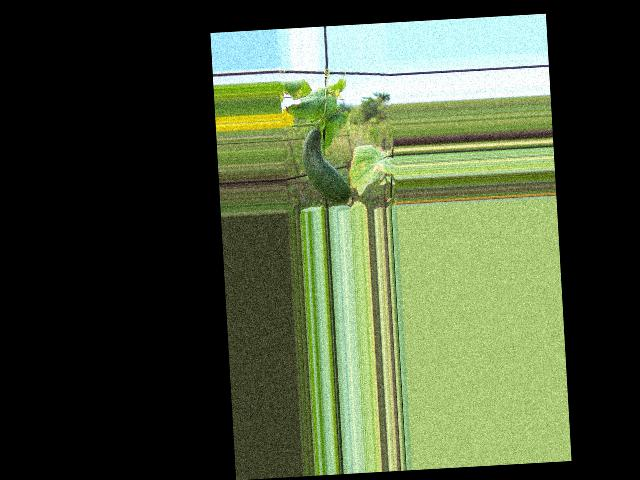cucumber: (301, 126, 352, 205)
